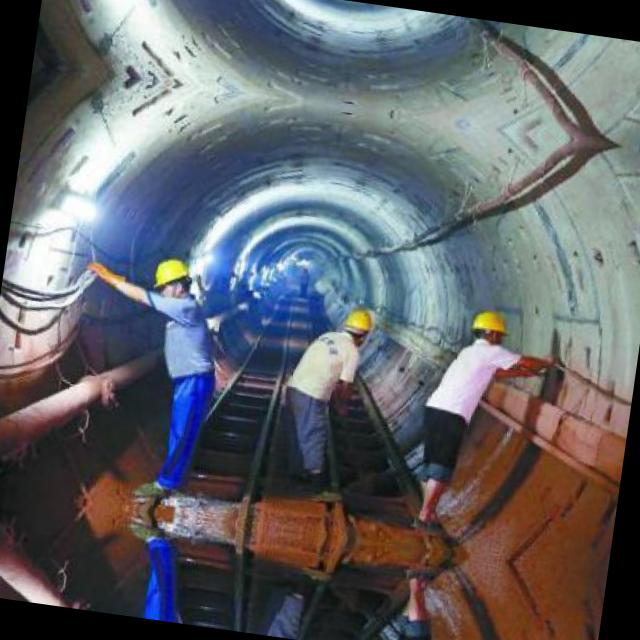helmet: (150, 253, 194, 304), (467, 304, 510, 346), (342, 305, 377, 349)
